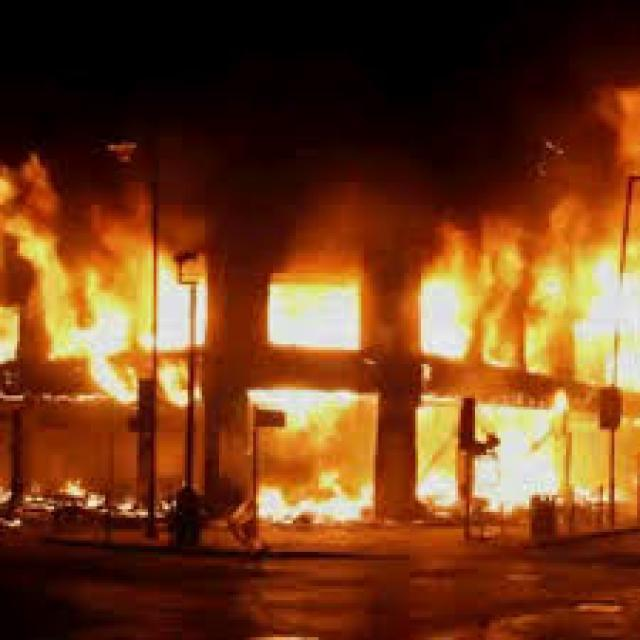Fire: (424, 213, 640, 509)
